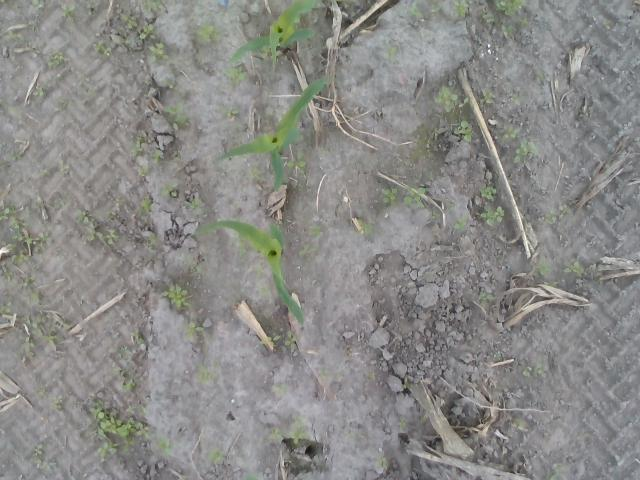Maize: (195, 218, 307, 330), (218, 76, 325, 190), (228, 0, 316, 62)
Weeds: (90, 399, 152, 460), (24, 309, 76, 352), (479, 0, 529, 34), (500, 125, 542, 164), (476, 185, 506, 225), (382, 184, 429, 208), (432, 85, 469, 114), (160, 283, 192, 310), (0, 204, 33, 230), (8, 230, 33, 263), (194, 24, 226, 46), (164, 102, 190, 129), (430, 0, 468, 18), (78, 208, 98, 240), (146, 42, 174, 64), (286, 414, 306, 444), (114, 366, 136, 393), (560, 256, 584, 278), (452, 120, 474, 143), (521, 359, 546, 378), (288, 151, 306, 177), (531, 254, 551, 277), (222, 66, 250, 82), (182, 322, 204, 342), (192, 366, 216, 384), (296, 243, 322, 258), (158, 437, 178, 456), (137, 24, 160, 40), (270, 382, 290, 400), (129, 135, 145, 157), (47, 50, 65, 68), (94, 40, 112, 58), (356, 218, 375, 235), (99, 228, 119, 244), (62, 0, 80, 17), (208, 448, 225, 466), (375, 455, 392, 473), (544, 463, 562, 480), (249, 161, 264, 181), (140, 196, 154, 217), (120, 14, 138, 30), (254, 282, 272, 298), (130, 328, 146, 346), (284, 330, 298, 350), (143, 0, 164, 13), (408, 1, 424, 18), (32, 442, 44, 464), (49, 394, 64, 411), (186, 256, 200, 274), (479, 290, 497, 304), (220, 105, 240, 117), (453, 214, 468, 230), (160, 183, 177, 197), (480, 86, 494, 103), (511, 415, 524, 432), (268, 427, 284, 440), (0, 100, 17, 112), (398, 415, 410, 432), (544, 208, 556, 225), (307, 224, 321, 238), (237, 240, 248, 256), (99, 208, 112, 221), (20, 277, 34, 289), (385, 47, 400, 58), (161, 78, 175, 89), (0, 302, 12, 314), (242, 471, 258, 480), (150, 148, 161, 161), (58, 159, 68, 173), (138, 166, 150, 177), (12, 150, 24, 161), (3, 270, 14, 282), (431, 210, 442, 222), (318, 369, 329, 381), (509, 94, 522, 104), (145, 234, 158, 244), (39, 228, 49, 241), (32, 88, 46, 97), (7, 30, 19, 40), (493, 350, 505, 360), (191, 198, 202, 208), (114, 197, 126, 206), (448, 202, 457, 214), (268, 335, 280, 344), (31, 0, 44, 8), (254, 262, 264, 272), (31, 292, 40, 303), (54, 199, 64, 208), (419, 414, 428, 424), (40, 169, 50, 177), (536, 72, 544, 81), (38, 389, 48, 396), (319, 145, 326, 155), (116, 458, 124, 464)
